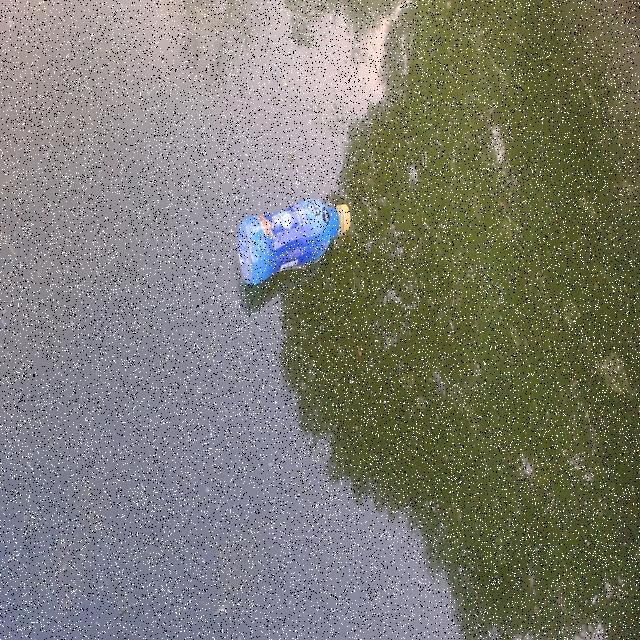Bottle: (235, 193, 353, 288)
